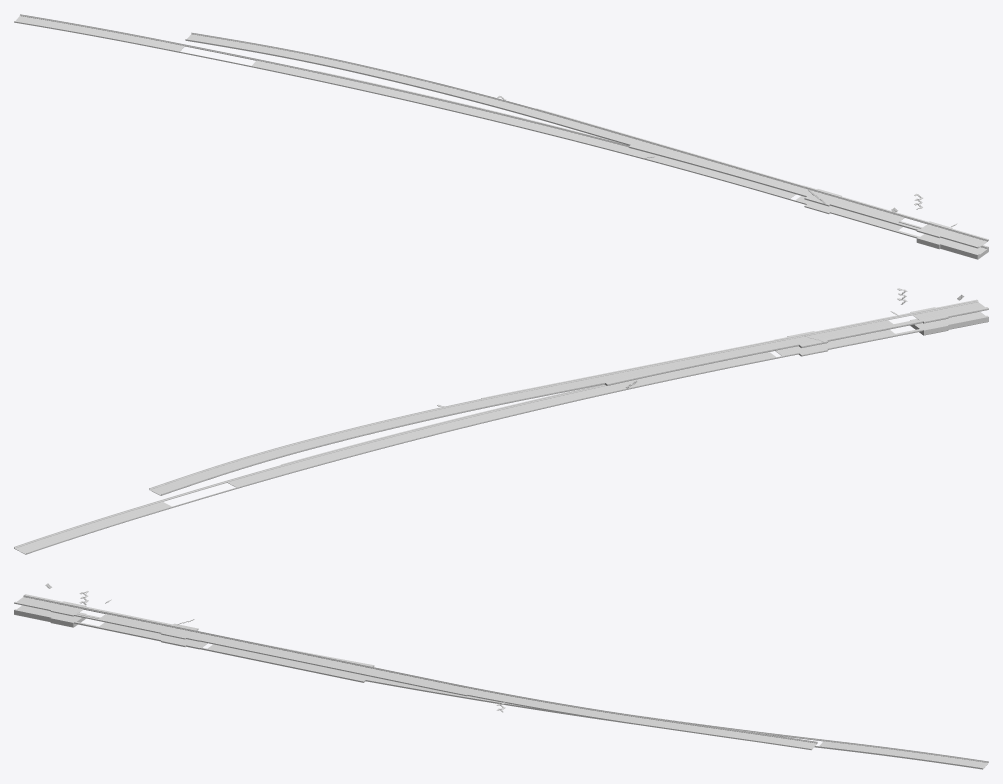
File: NoLod_7.glb
3 renders of one model, top to bottom at view 1: azimuth 90°, elevation 25°; view 2: azimuth 150°, elevation 25°; view 3: azimuth 270°, elevation 25°, orthographic. The views are drawn at different scales.
Visible parts, largest first — view 1: rtc; view 2: rtc; view 3: rtc.
Part boxes in pixels (box(x1,y1,x2,y2)): rtc: box(14, 14, 988, 259); rtc: box(14, 288, 988, 554); rtc: box(14, 583, 988, 769).
Size of the model in its own units: 305 by 29.95 by 617.
Materials: 1 (1 with a texture image).
